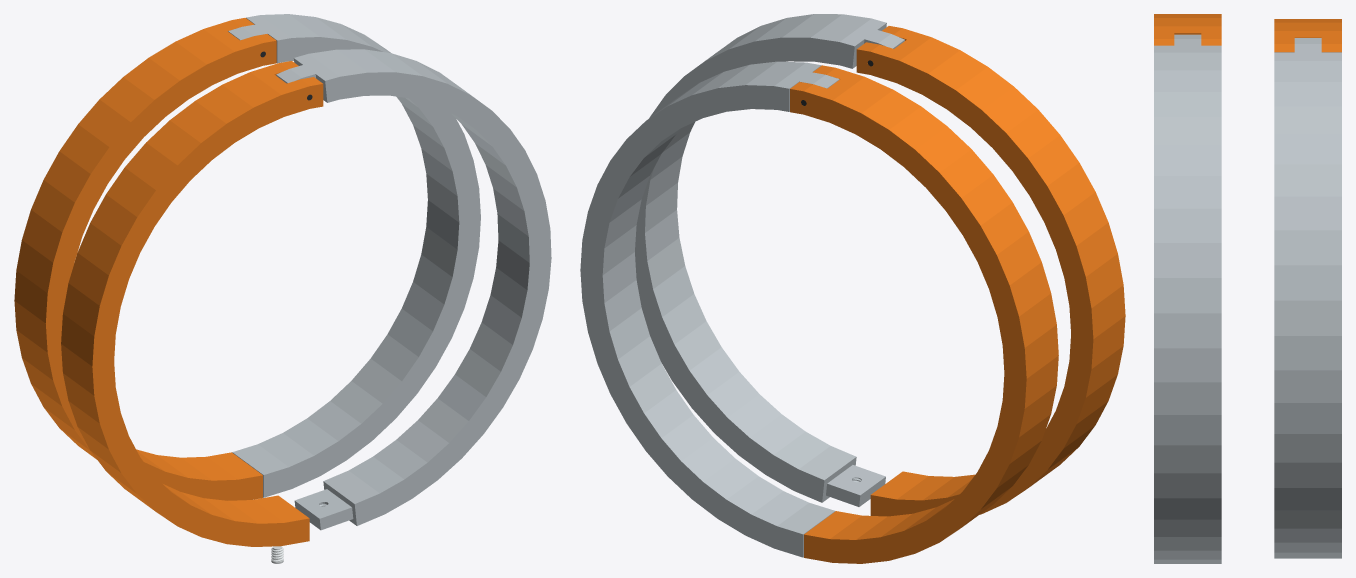
File: tinkercad.obj
3 renders of one model, left to right at view 1: azimuth 30°, elevation 25°; view 2: azimuth 150°, elevation 25°; view 3: azimuth 270°, elevation 25°, orthographic. The views are drawn at different scales.
Parts seen in each view (by area): view 1: group_0_16089887, group_0_12568524; view 2: group_0_16089887, group_0_12568524; view 3: group_0_12568524, group_0_16089887.
Part boxes in pixels (x1,y1,x2,y2): group_0_16089887: (14, 18, 323, 546); group_0_12568524: (228, 14, 551, 530); group_0_16089887: (790, 26, 1125, 563); group_0_12568524: (580, 14, 904, 557); group_0_12568524: (1154, 34, 1341, 563); group_0_16089887: (1154, 14, 1341, 52).
Bounding box in the file's own units: 84.49 × 85.17 × 27.8.
